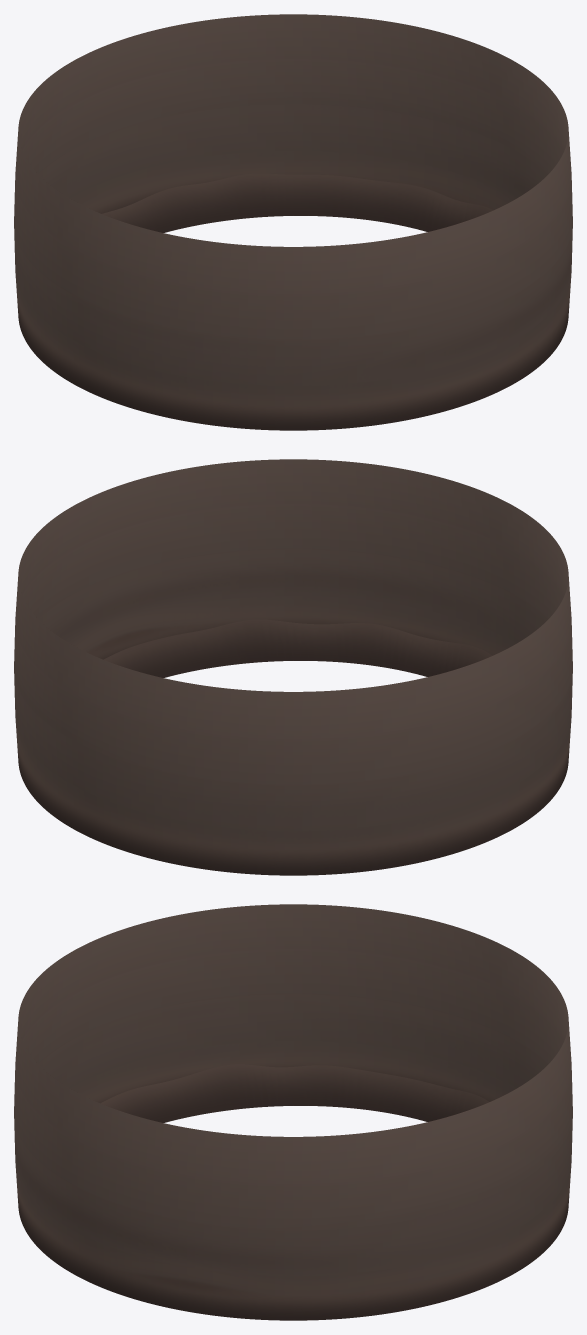
Rendered from baron-panorama.glb.
3 views of the same model, one above another, from view 1: azimuth 30°, elevation 25°; view 2: azimuth 150°, elevation 25°; view 3: azimuth 270°, elevation 25° (orthographic).
Visible parts, largest first — view 1: BaronPanorama; view 2: BaronPanorama; view 3: BaronPanorama.
Boxes of the visible parts, x1,y1,x2,y2 form: BaronPanorama: [14, 14, 572, 430]; BaronPanorama: [14, 459, 572, 875]; BaronPanorama: [14, 904, 572, 1320].
Size of the model in its own units: 386 by 140 by 386.
1 material, 1 textured.
